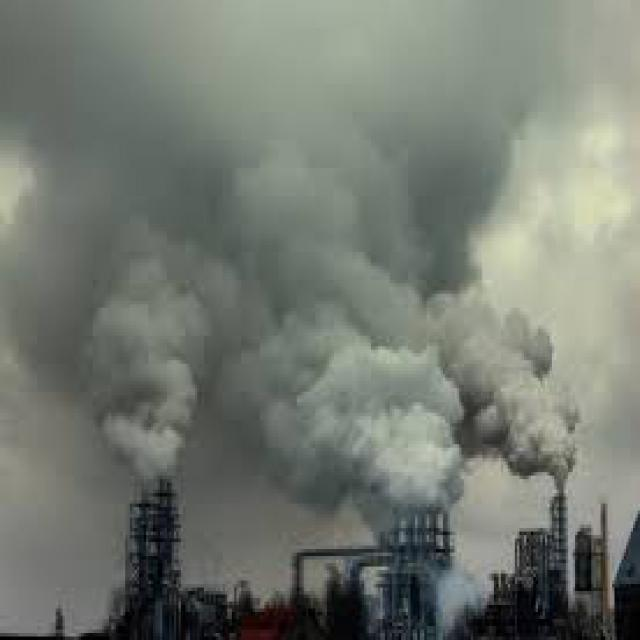Smoke: (60, 98, 587, 502)
